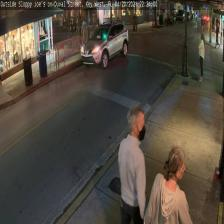person: (117, 105, 149, 224), (143, 146, 192, 223)
